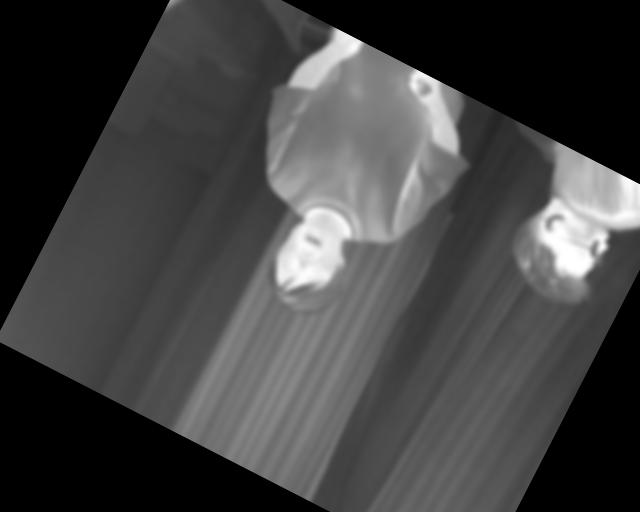face: (253, 205, 367, 326)
